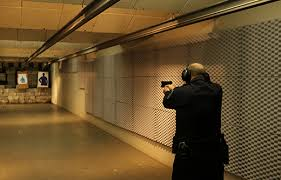gun: (159, 77, 176, 95)
